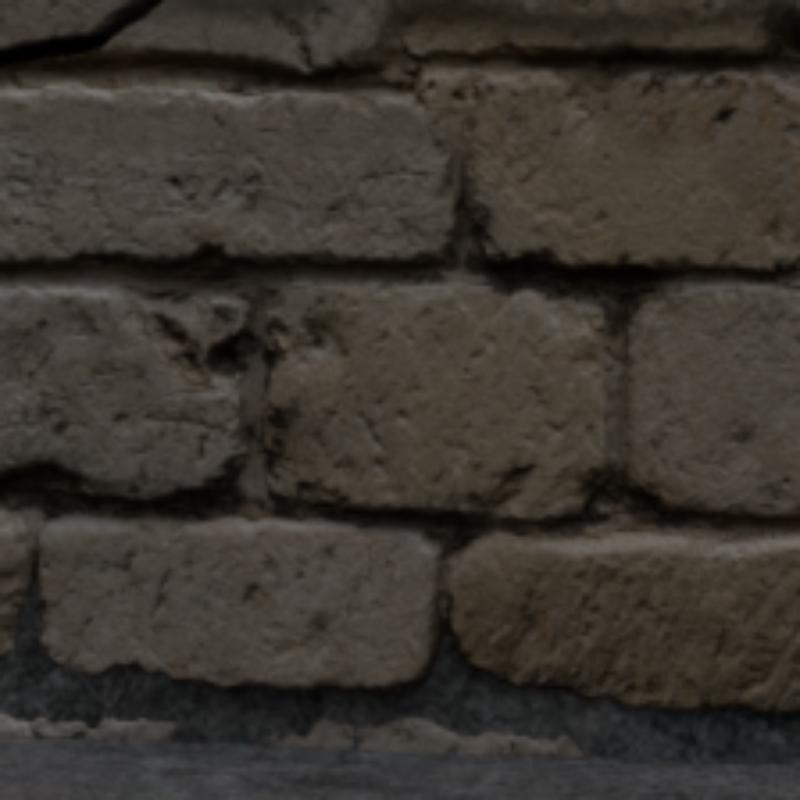pothole: (0, 0, 161, 64)
